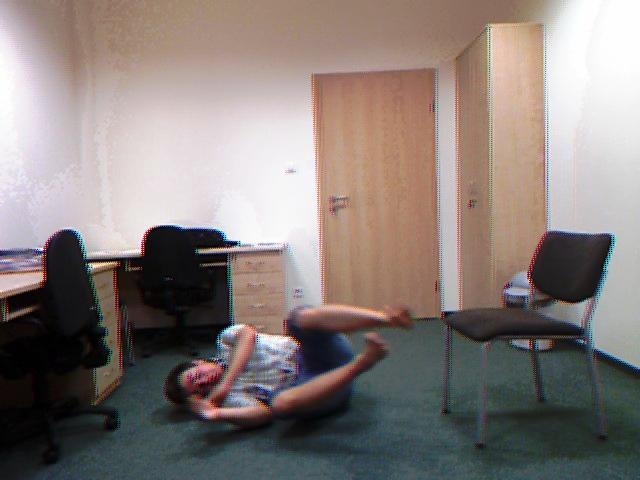fall: (156, 291, 422, 444)
